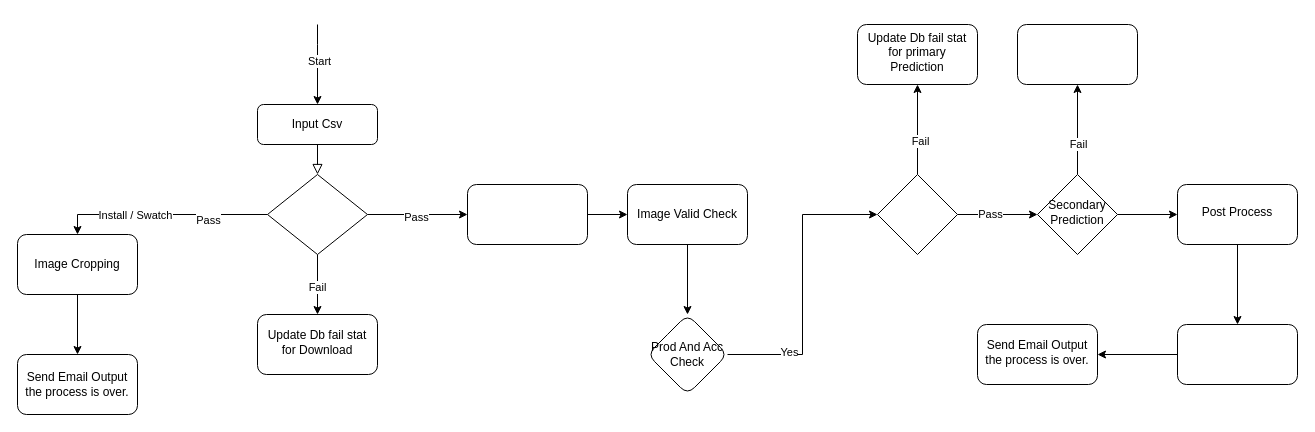
This 1315x432 diagram has some shape labels left out. Here are the shapes that lost their labels. From the top down, the box of each, then its label:
(1016, 24, 1138, 84): Update Db fail stat for secondary Prediction
(266, 174, 368, 254): Download
(466, 184, 588, 244): Image Resize
(876, 174, 958, 254): Primary Prediction
(1176, 324, 1298, 384): Upload Zip contains Swatch and Output Csv
